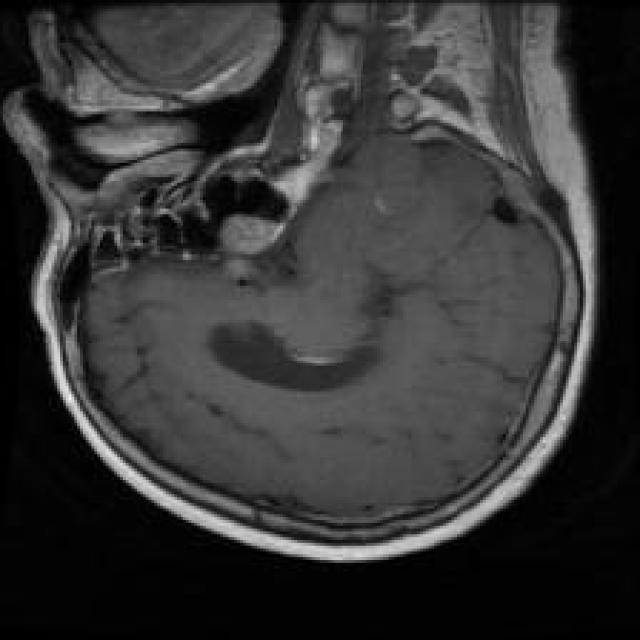pituitary_tumor: (208, 196, 309, 303)
